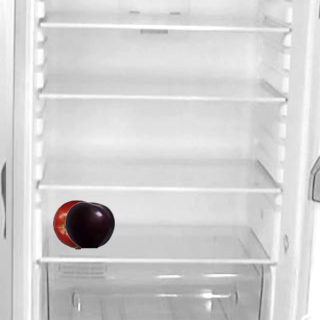Apple Braeburn: (52, 199, 102, 249)
Cherry Wax Black: (64, 199, 114, 249)
